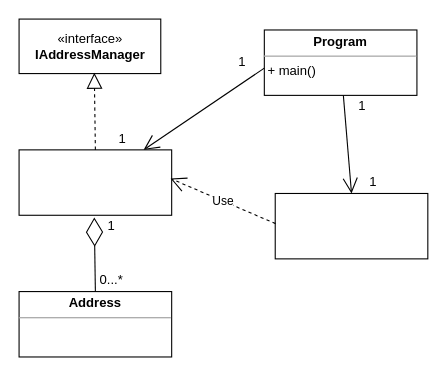
This 447x376 diagram has some shape labels left out. Here are the shapes that lost their labels. From the top down, the box of each, then its label:
(18, 149, 172, 215): AddressManager
(274, 192, 428, 259): AddressView
